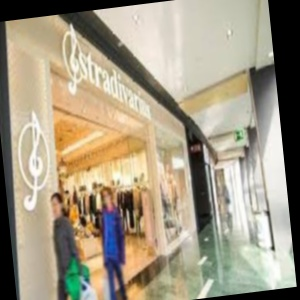stradivarius: (122, 3, 194, 23)
